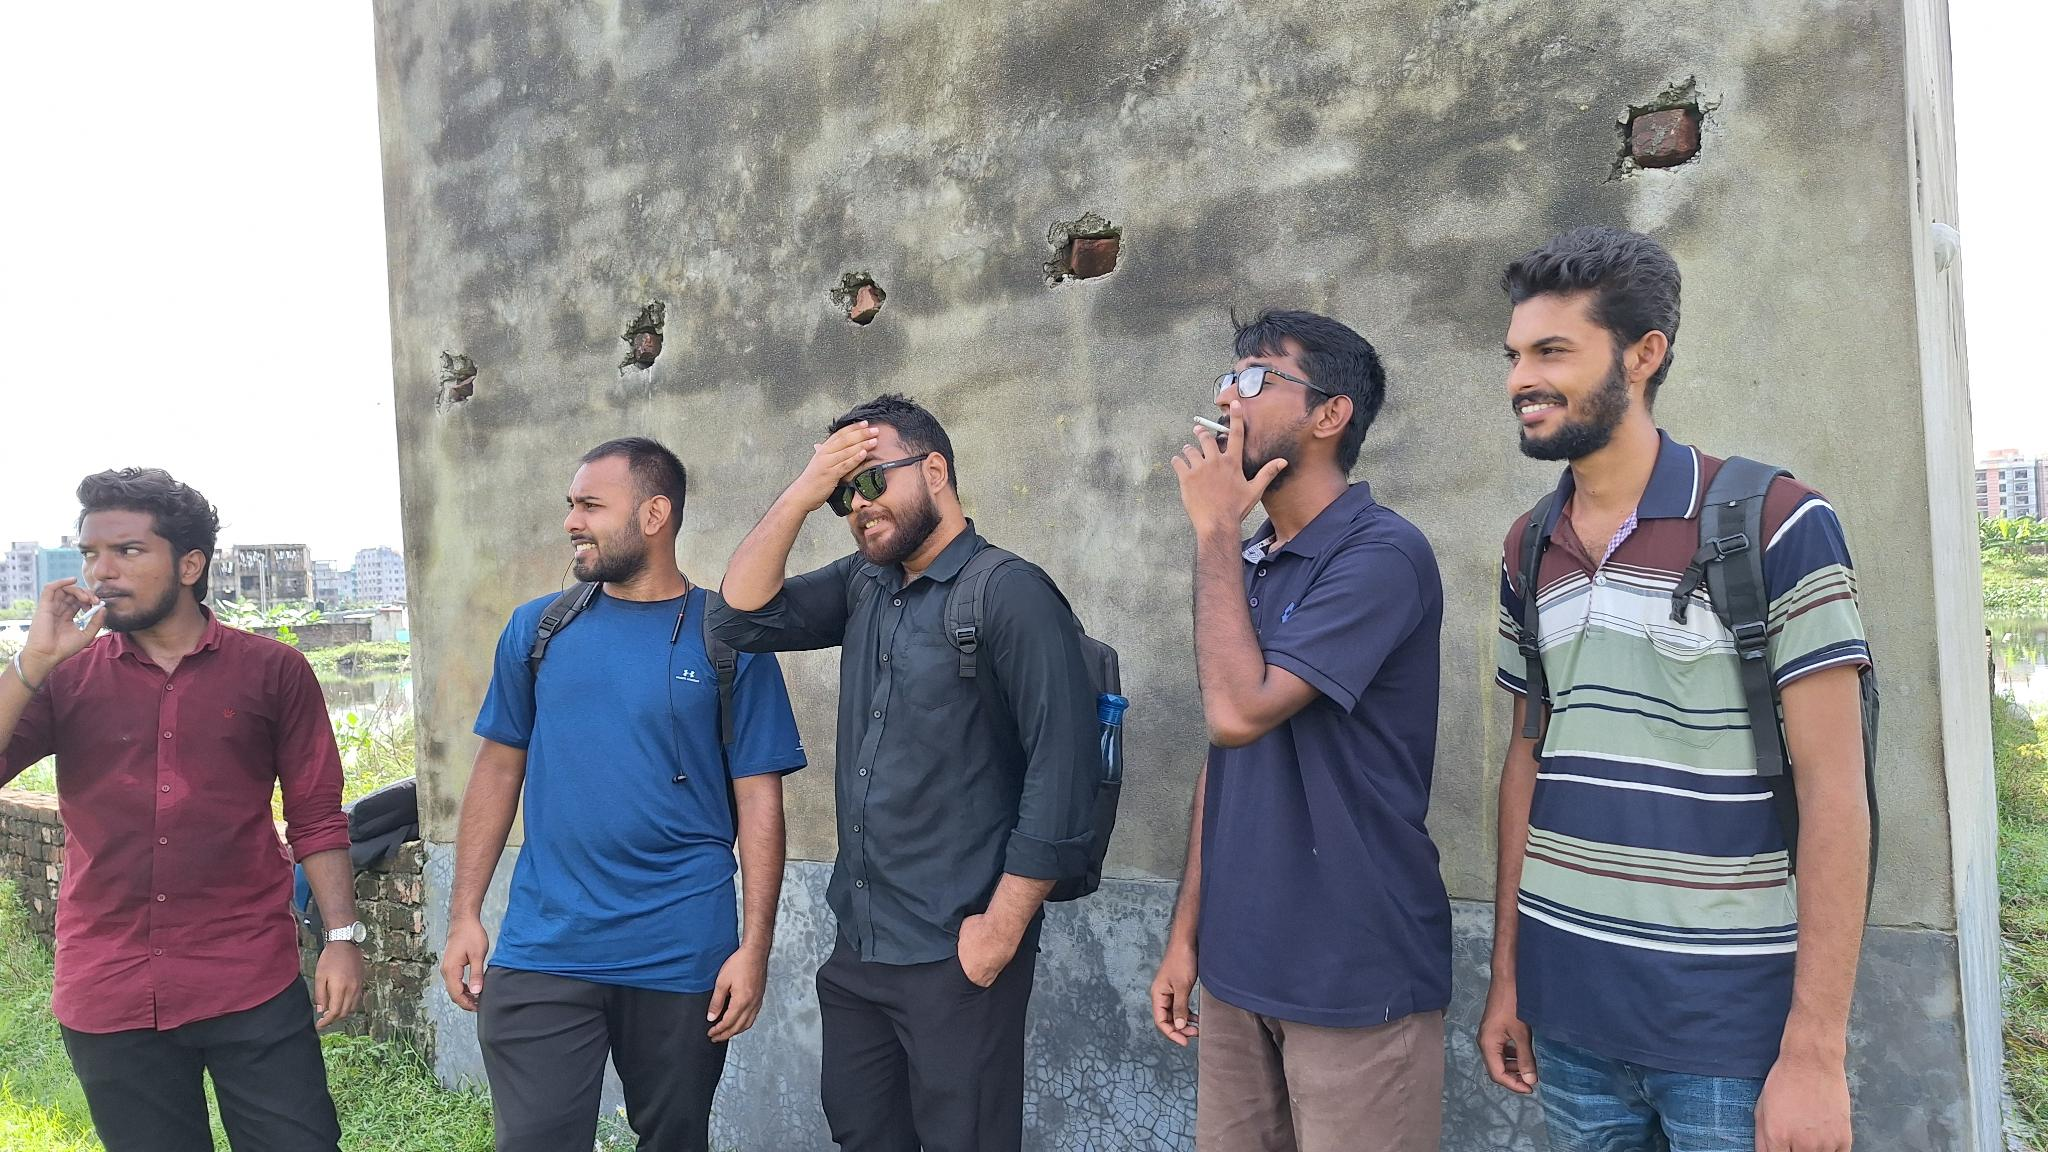cigarette: (75, 599, 107, 627), (1191, 414, 1232, 435)
nonSmoker: (1476, 224, 1883, 1152), (708, 392, 1128, 1152), (439, 432, 806, 1152)
smoker: (1149, 312, 1453, 1152), (0, 467, 364, 1152)
